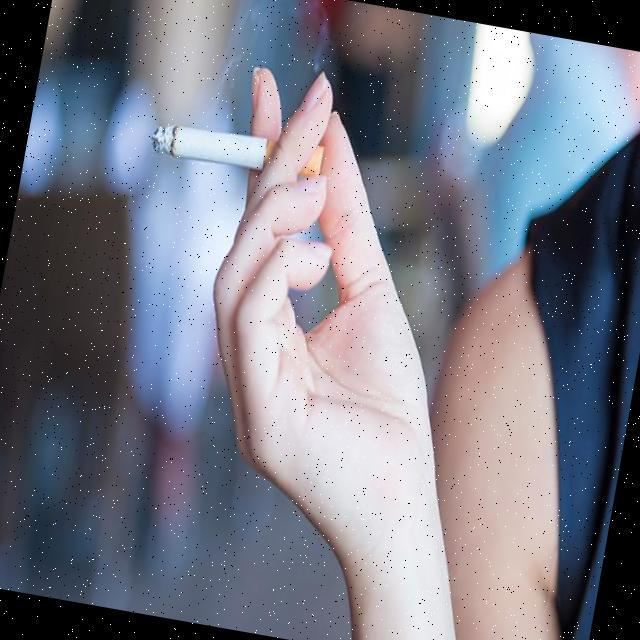cigarette: (147, 110, 329, 188)
